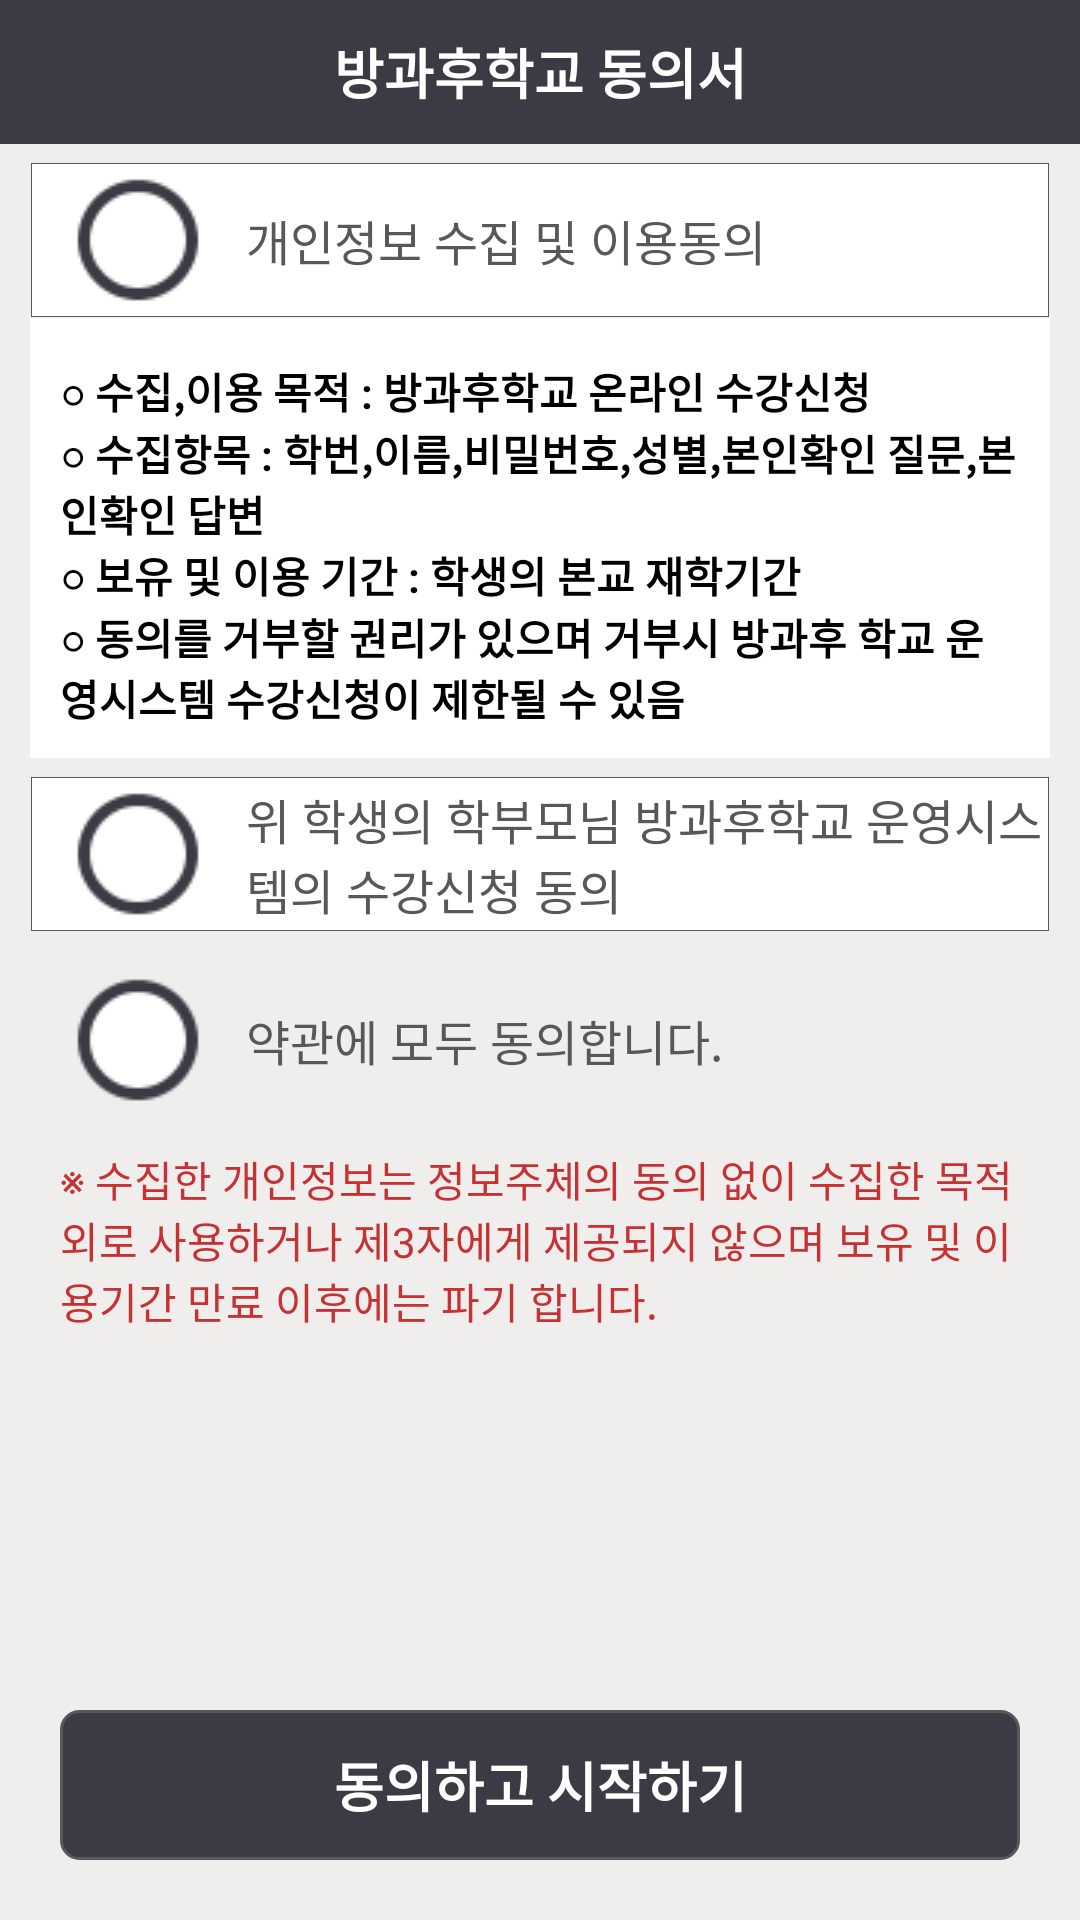

Where to tap for icons on this 1080x1920 app screen, as (x,y):
checkbox: (138,240), (138,854), (138,1040)
